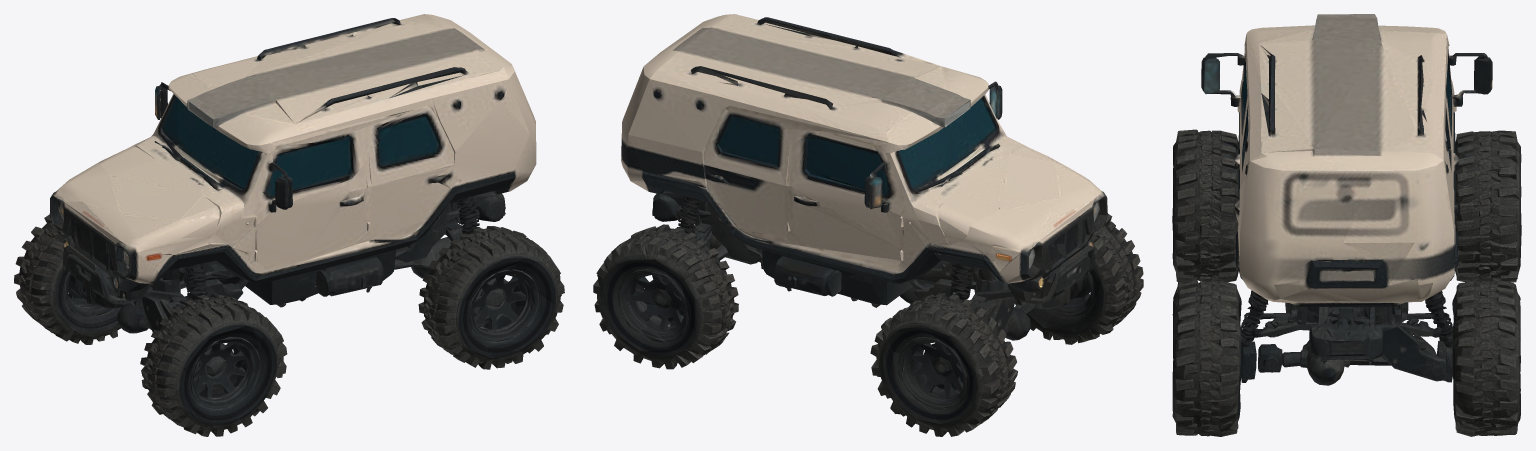
The model's file is parallax-rover-web.glb.
The picture shows the model from 3 angles, left to right: view 1: azimuth 30°, elevation 25°; view 2: azimuth 150°, elevation 25°; view 3: azimuth 270°, elevation 25°; orthographic projection. The views are drawn at different scales.
Parts seen in each view (by area): view 1: output_unwrapped; view 2: output_unwrapped; view 3: output_unwrapped.
Boxes of the visible parts, x1=… form: output_unwrapped: x1=14, y1=14, x2=564, y2=436; output_unwrapped: x1=593, y1=14, x2=1143, y2=436; output_unwrapped: x1=1172, y1=14, x2=1521, y2=436.
Size of the model in its own units: 1.9 by 1.16 by 1.21.
1 material, 1 textured.
